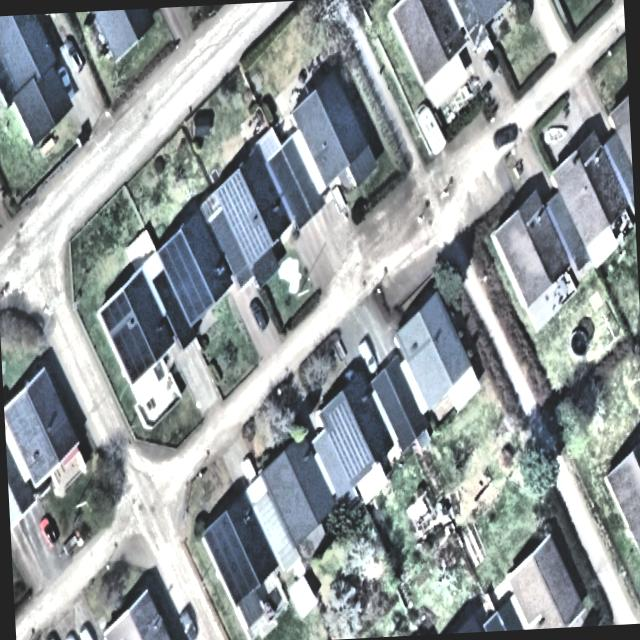roof_pv: (330, 429, 374, 484), (213, 556, 259, 608), (114, 324, 154, 382), (168, 276, 215, 324), (202, 514, 247, 560), (158, 232, 202, 276), (217, 170, 254, 222), (230, 222, 272, 262), (99, 288, 132, 332), (328, 401, 359, 432)
